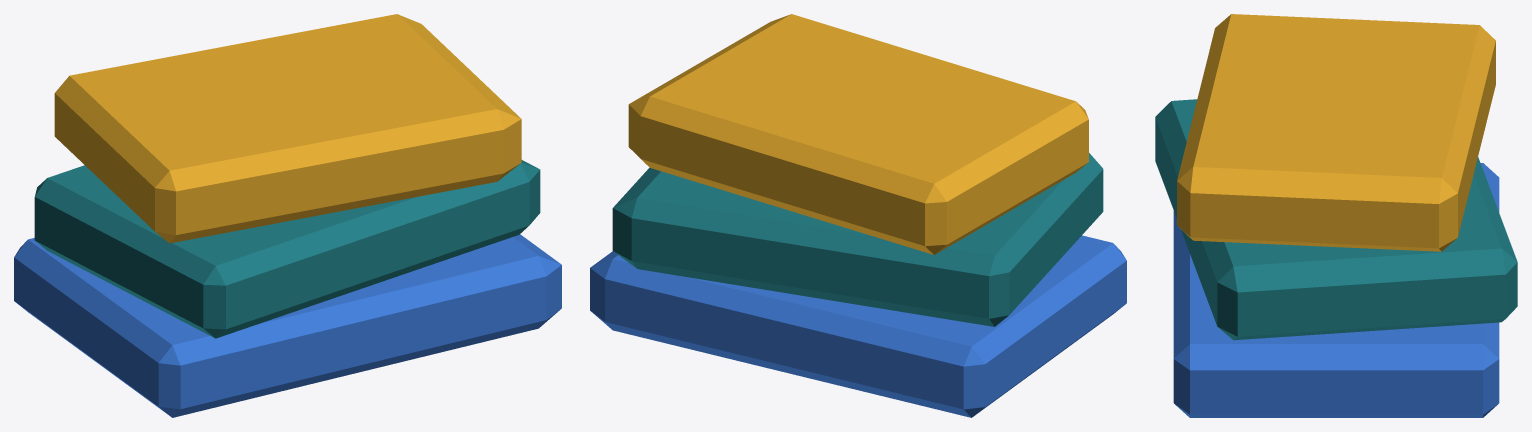
The model's file is book_stack.glb.
3 views of the same model, side by side, from view 1: azimuth 30°, elevation 25°; view 2: azimuth 150°, elevation 25°; view 3: azimuth 270°, elevation 25° (orthographic). The views are drawn at different scales.
Parts seen in each view (by area): view 1: book_stack; view 2: book_stack; view 3: book_stack.
Part boxes in pixels (x1=…): book_stack: x1=14, y1=14, x2=561, y2=417; book_stack: x1=590, y1=14, x2=1126, y2=417; book_stack: x1=1155, y1=14, x2=1517, y2=417.
Size of the model in its own units: 0.1756 by 0.094 by 0.1335.
